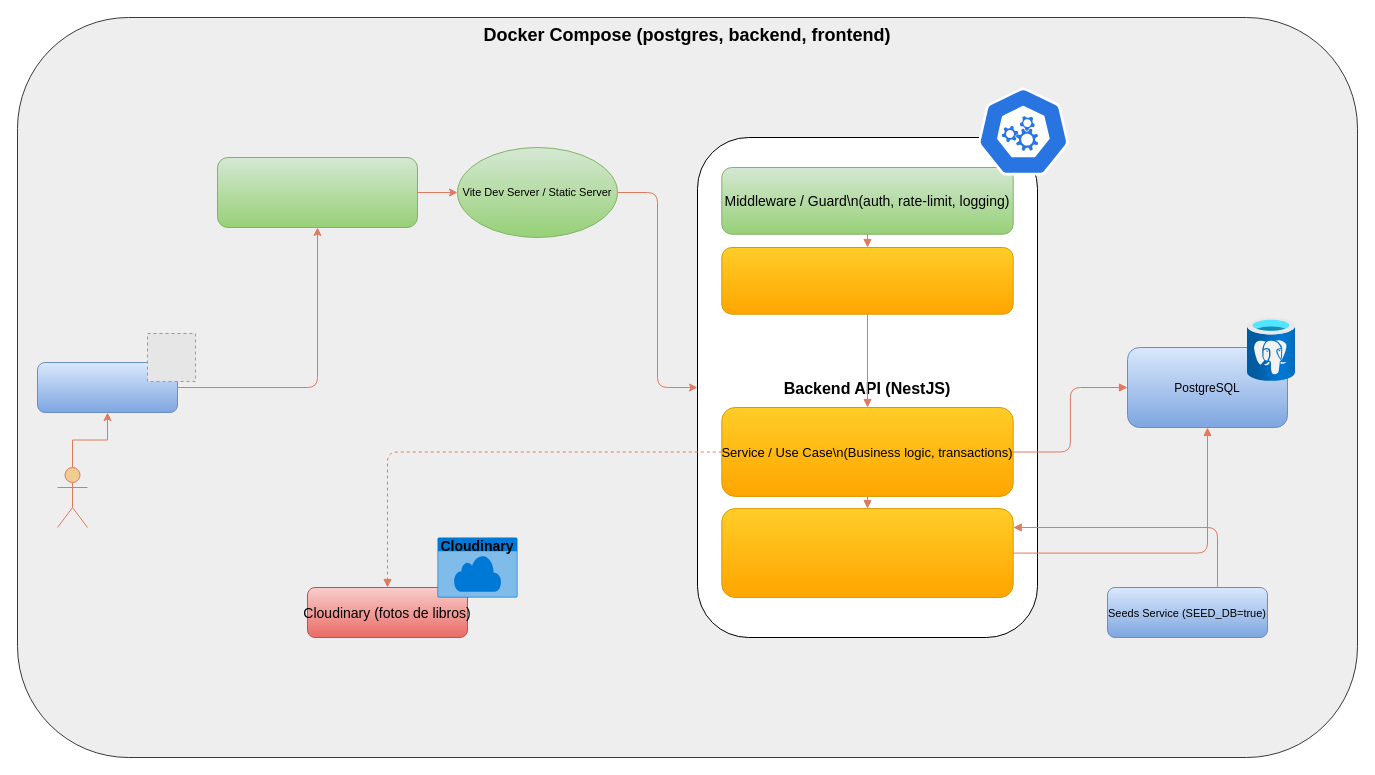
The diagram is 1375 pixels wide and 775 high, and some of its shapes have lost their labels. Grey dashed boxes stand in for pictures. Each missing label, with the centre of its shape:
"Actor" goes at point (72, 497).
"Browser (User)" goes at point (107, 387).
"Controller(s)\n(HTTP endpoints)" goes at point (867, 280).
"Frontend (React + Vite)" goes at point (317, 192).
"Repository / Sequelize Model\n(queries, soft-delete)" goes at point (867, 553).
